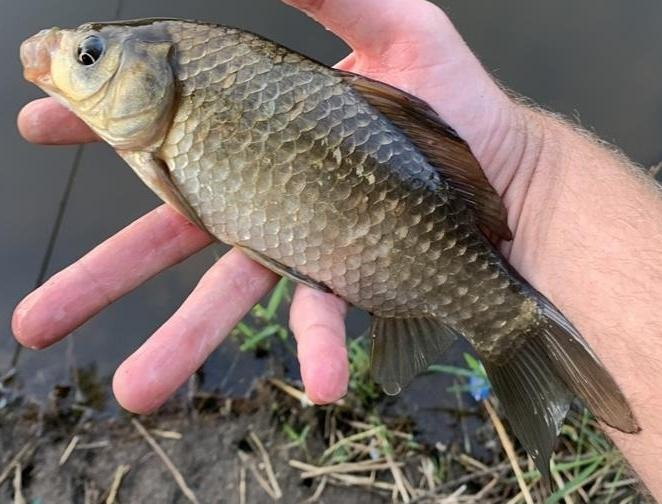Grass Carp: (17, 21, 644, 489)
